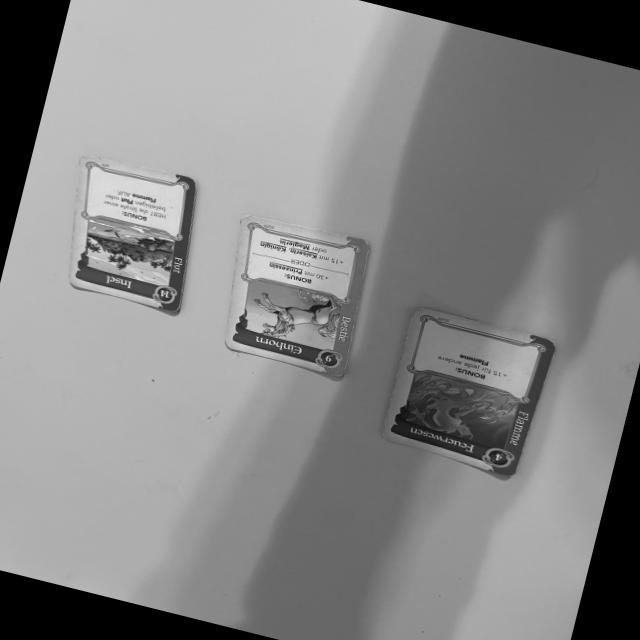Fire Elemental: (380, 304, 561, 477)
Island: (67, 155, 196, 313)
Unicorn: (220, 214, 365, 380)
